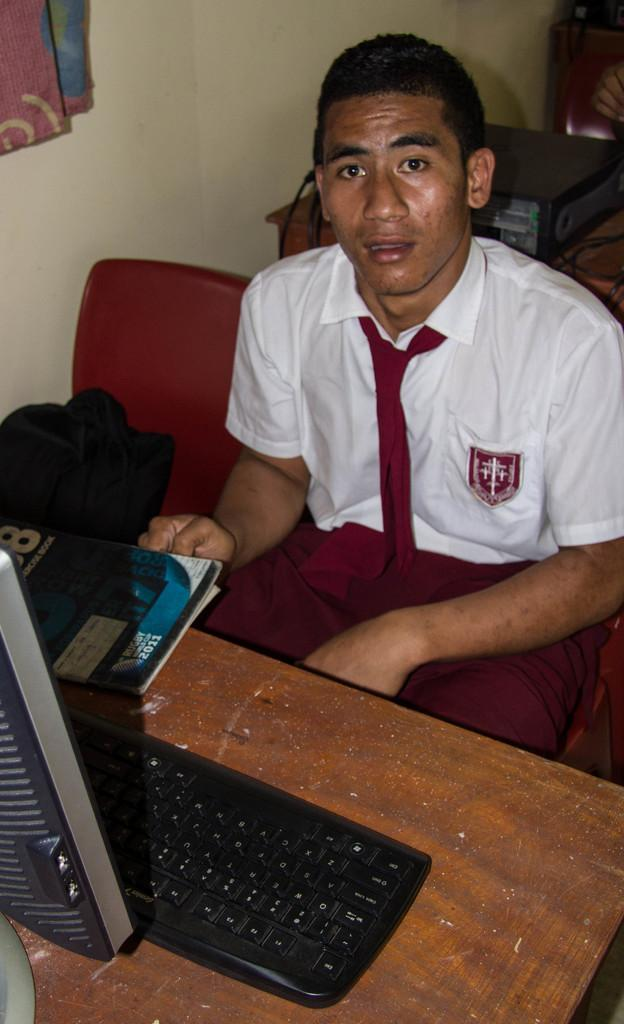Computer-keyboard: (63, 707, 435, 1008)
